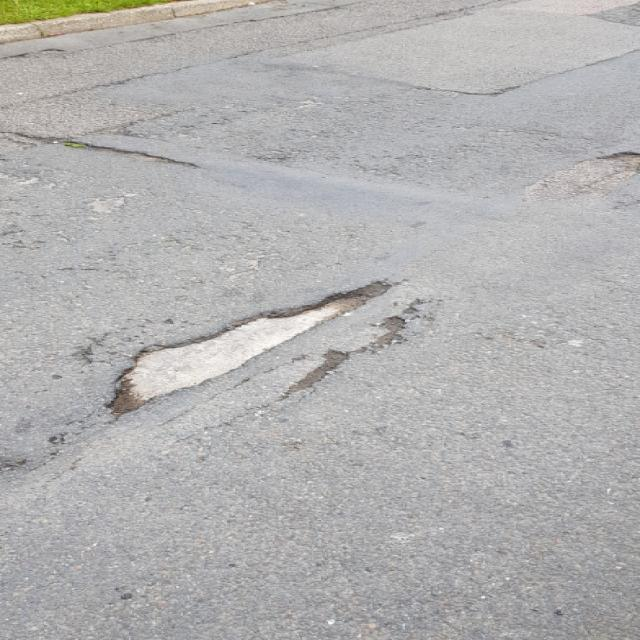pothole: (95, 272, 402, 418)
